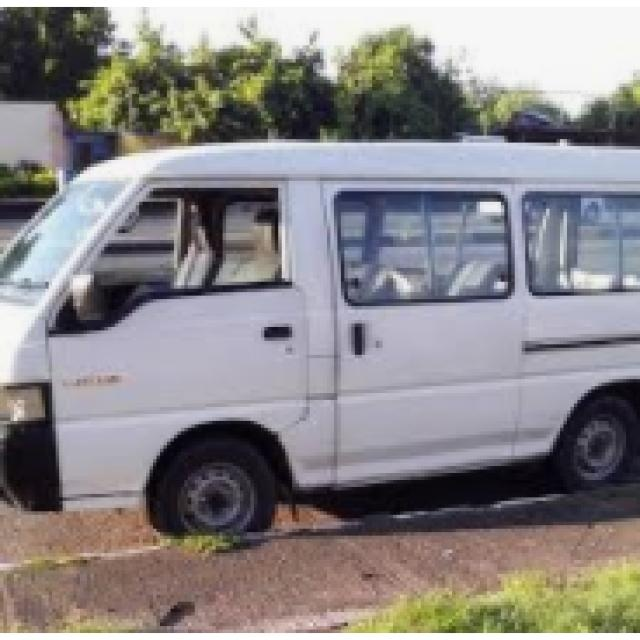Van: (0, 139, 640, 539)
